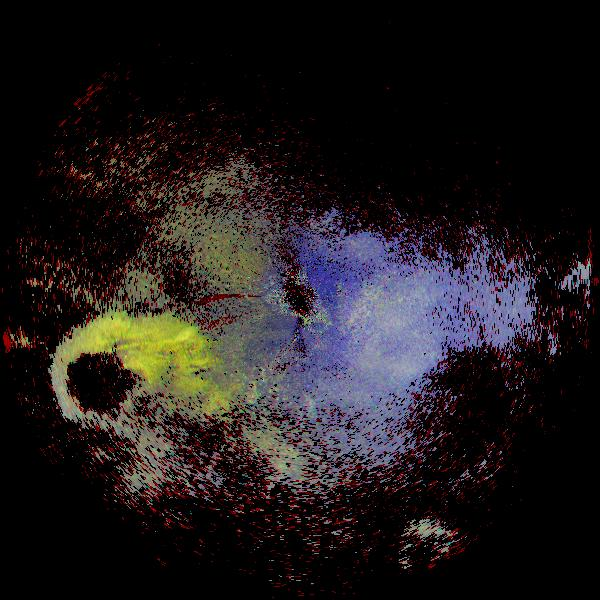roost: (22, 288, 184, 450), (92, 295, 227, 430)
